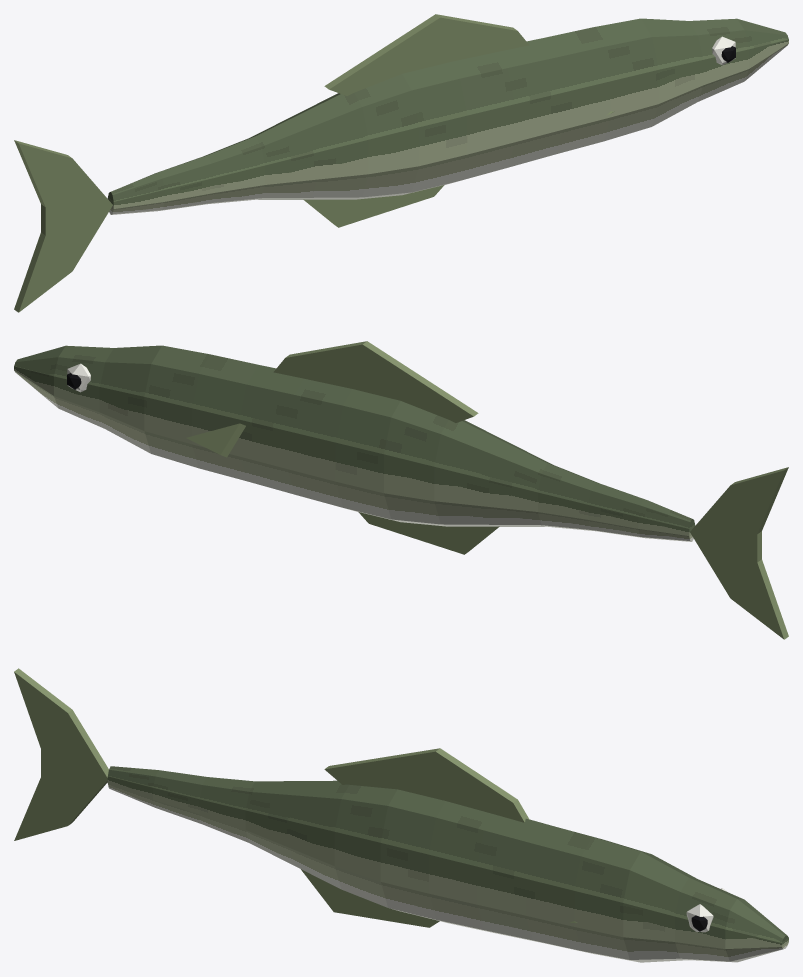
Rendered from snook.glb.
3 views of the same model, one above another, from view 1: azimuth 30°, elevation 25°; view 2: azimuth 150°, elevation 25°; view 3: azimuth 330°, elevation 25° (orthographic).
Visible parts, largest first — view 1: fish_snook; view 2: fish_snook; view 3: fish_snook.
Boxes of the visible parts, x1,y1,x2,y2 form: fish_snook: (14, 14, 788, 312); fish_snook: (14, 341, 788, 639); fish_snook: (14, 668, 788, 962).
Bounding box in the file's own units: 1.14 × 0.2725 × 0.1267.
Materials: 4 (1 with a texture image).
